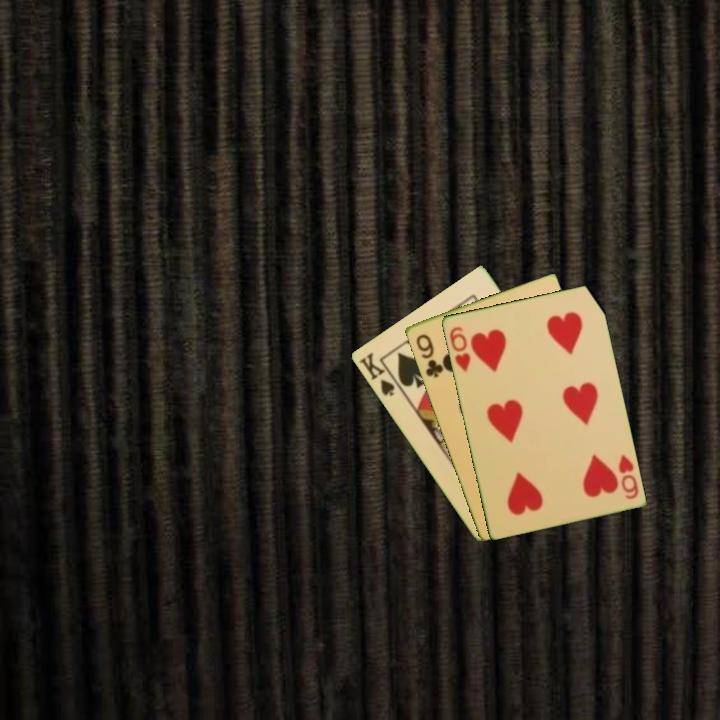6h: (446, 323, 473, 374), (614, 451, 641, 502)
9c: (412, 330, 446, 381)
Ks: (355, 349, 404, 399)
